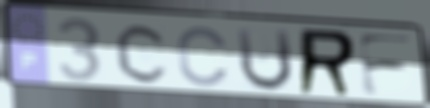3: (55, 16, 107, 84)
C: (112, 22, 171, 86), (175, 24, 233, 89)
F: (354, 32, 416, 99)
R: (295, 26, 358, 99)
U: (233, 25, 296, 94)
